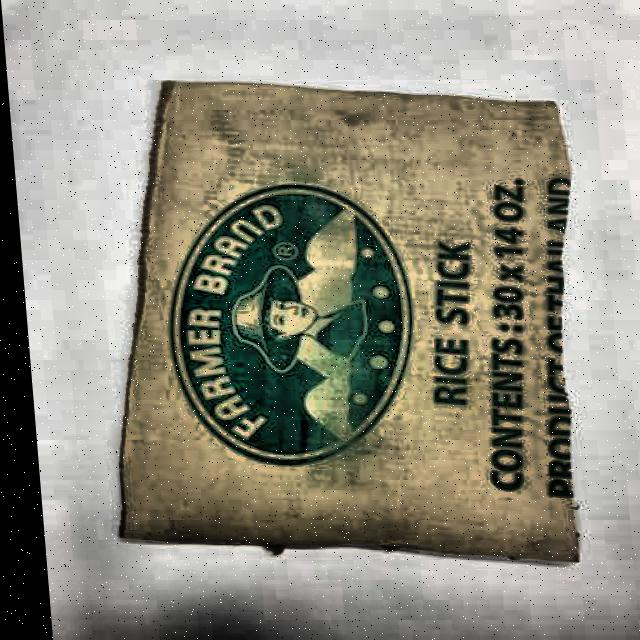cardboard: (83, 79, 606, 564)
